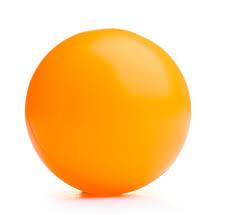oball: (24, 30, 194, 199)
